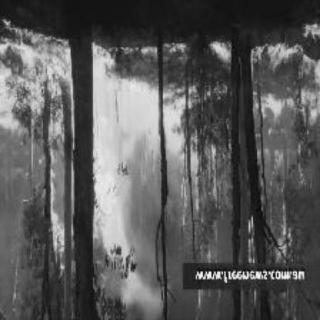Fire: (6, 34, 73, 166)
